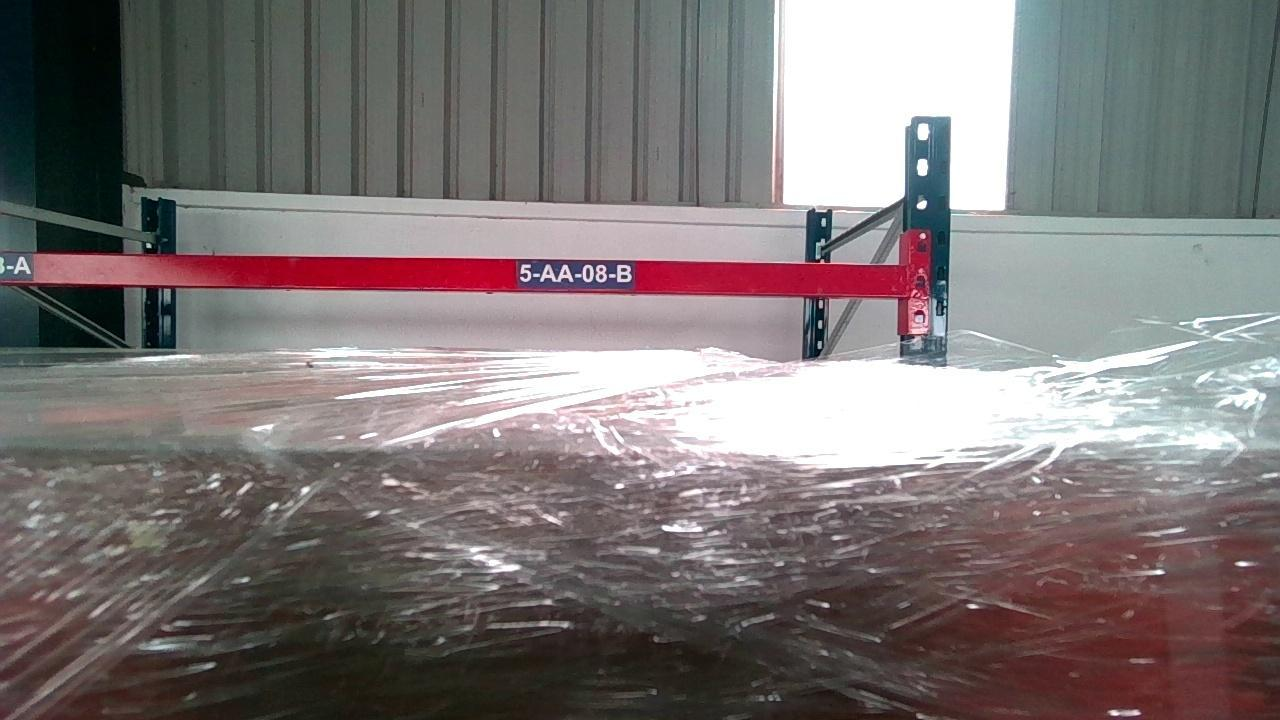h_rack: (0, 254, 909, 296)
